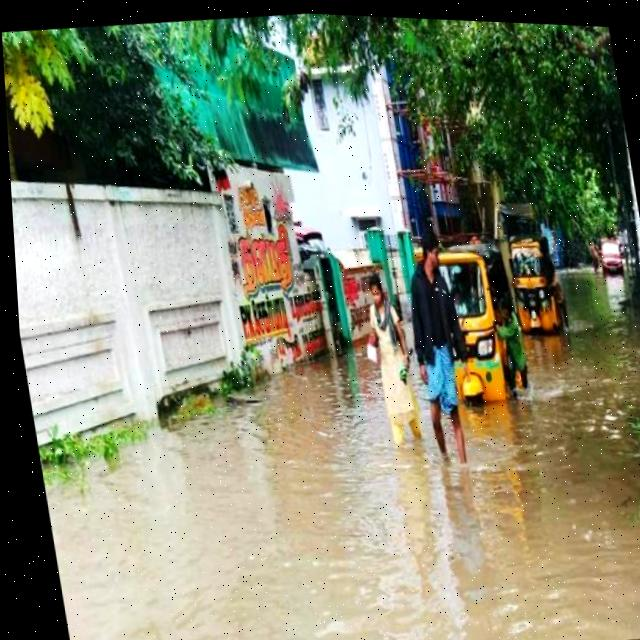civilian: (393, 229, 488, 475), (345, 261, 434, 469), (488, 292, 544, 409), (536, 255, 586, 343), (579, 234, 606, 284)
